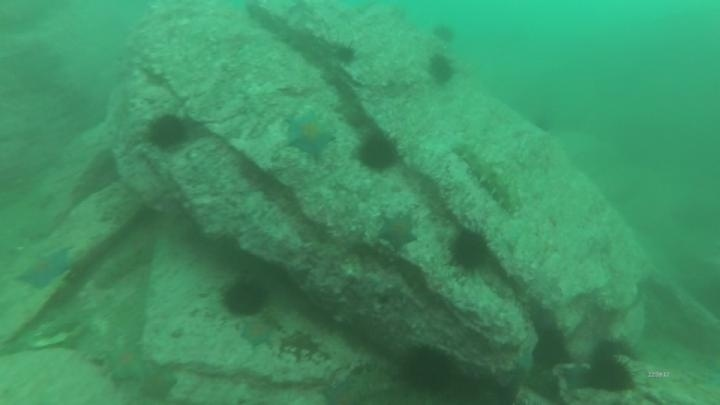echinus: (397, 343, 458, 397), (219, 276, 270, 319), (447, 226, 492, 274), (583, 355, 637, 395), (355, 130, 401, 174), (530, 326, 572, 372), (145, 112, 191, 152), (589, 335, 637, 364), (425, 53, 457, 87), (332, 42, 359, 67), (431, 22, 458, 45)
holothurian: (453, 140, 524, 215), (90, 239, 151, 291)
starfish: (14, 245, 76, 293), (283, 110, 337, 160), (102, 339, 150, 384), (376, 210, 420, 252), (135, 365, 179, 402), (319, 376, 368, 404), (237, 318, 278, 349)
